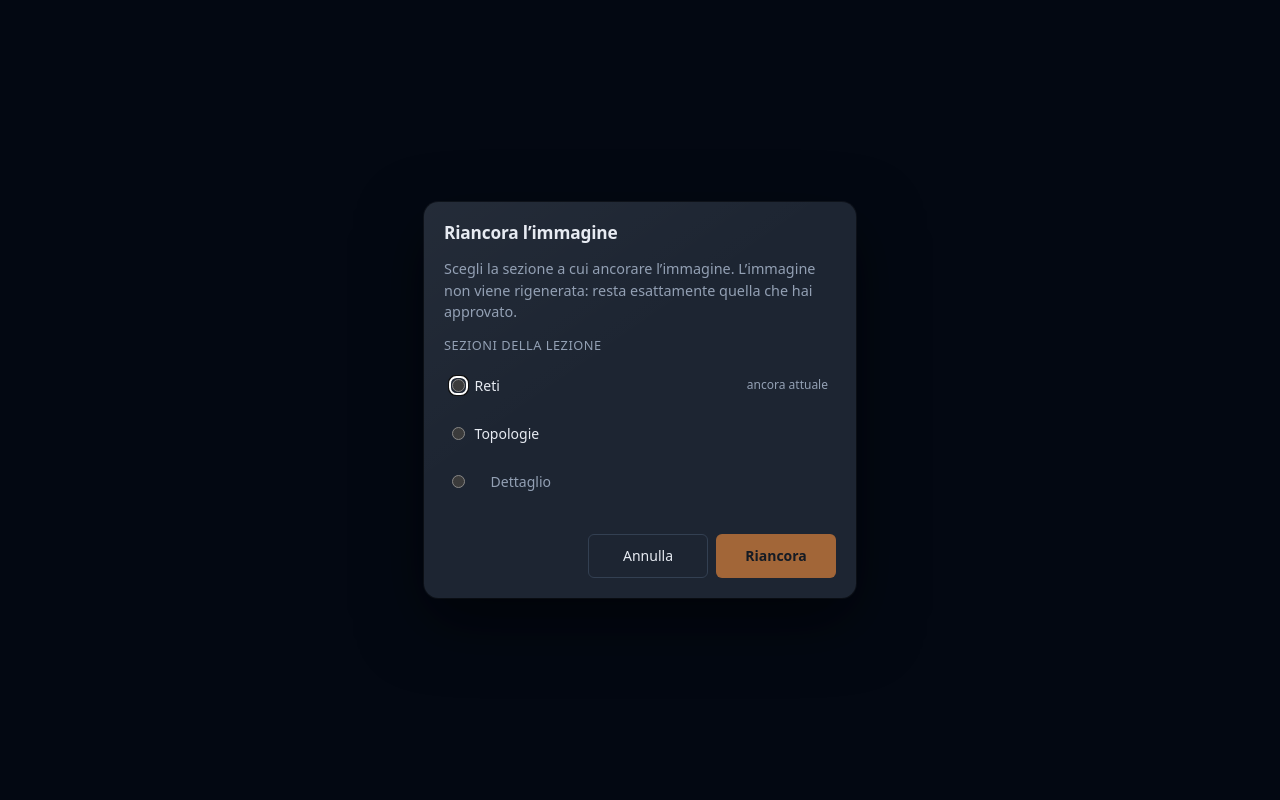
Test case: LessonVisualReanchorDialog › mostra l’errore nel dialog e resta aperto
Click the radio button labelled "Reti ancora attuale": (458,385) top-left (452, 379), bottom-right (465, 392)
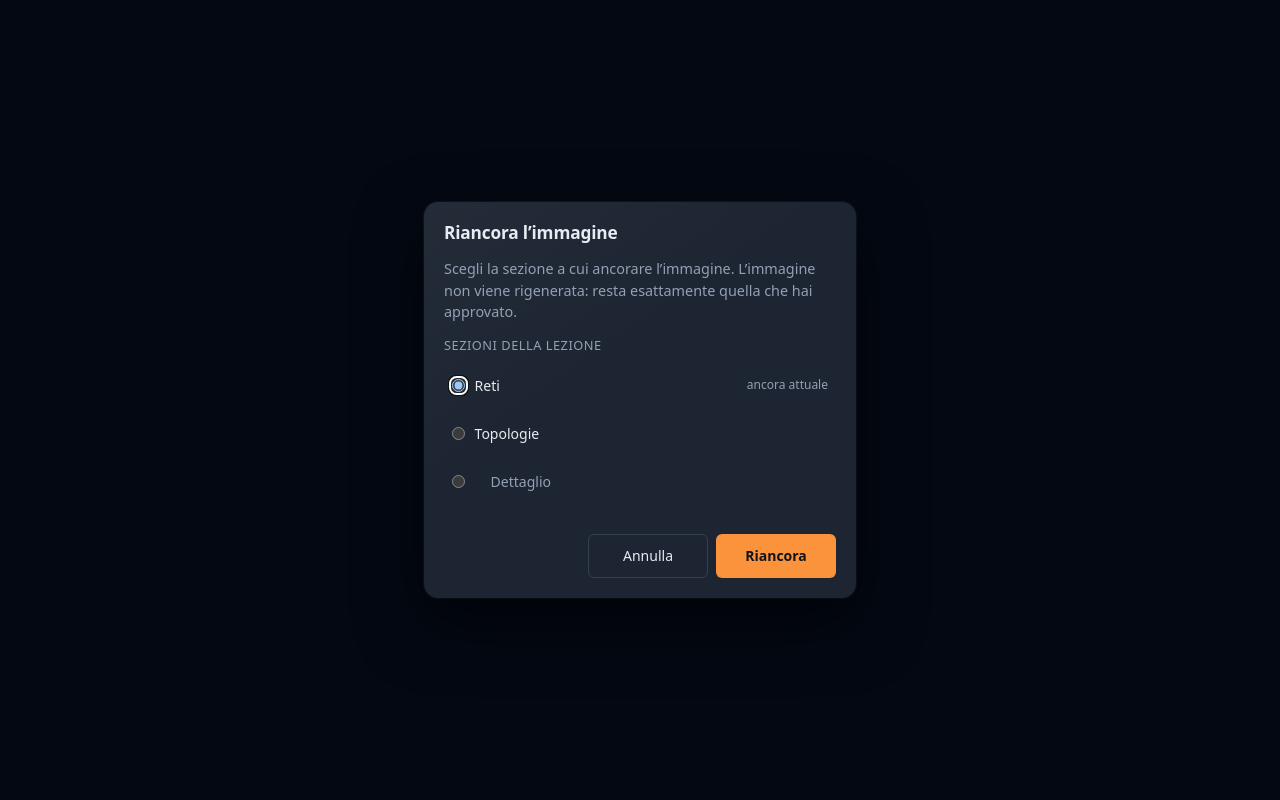
Click the button "Riancora": (776,556) top-left (716, 534), bottom-right (836, 578)
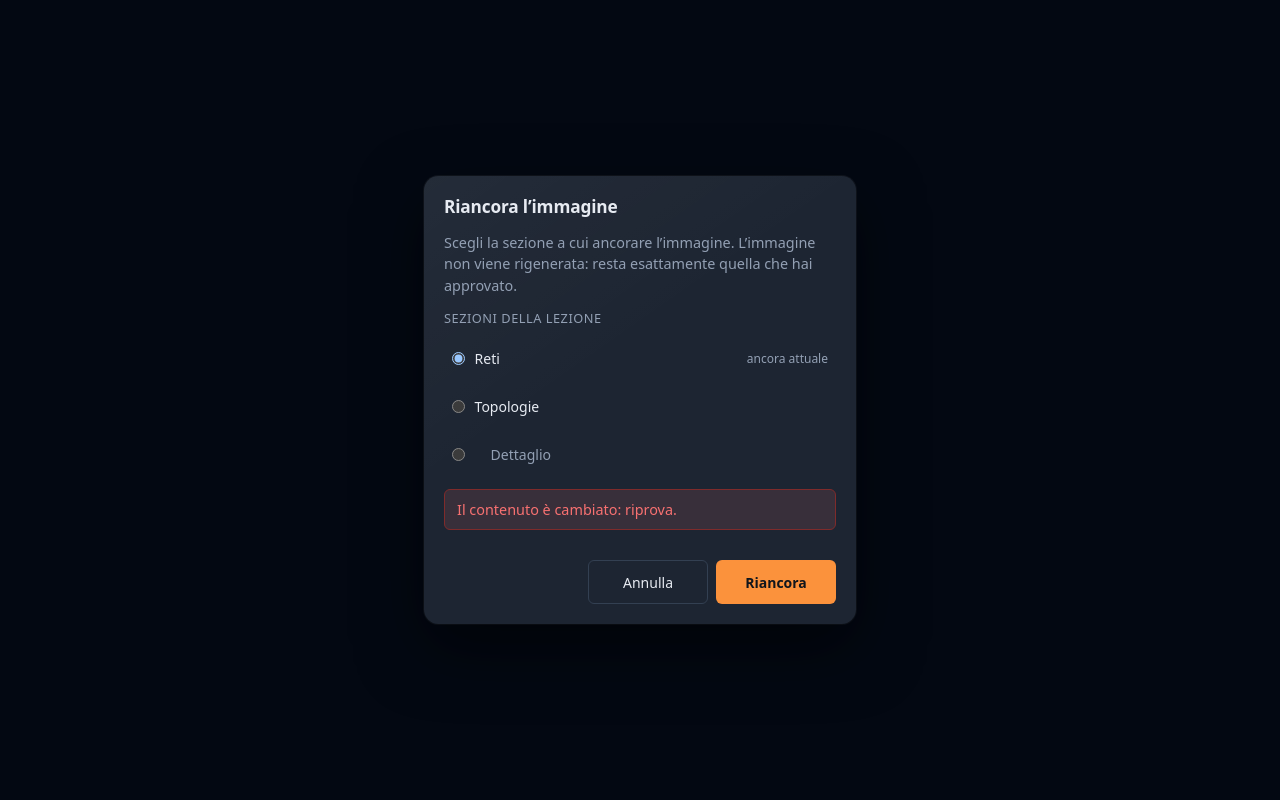
Expected: the dialog is shown, top-left (424, 176), bottom-right (856, 624)
Now the message "Il contenuto è cambiato: riprova." is shown, box top-left (444, 489), bottom-right (836, 530)
